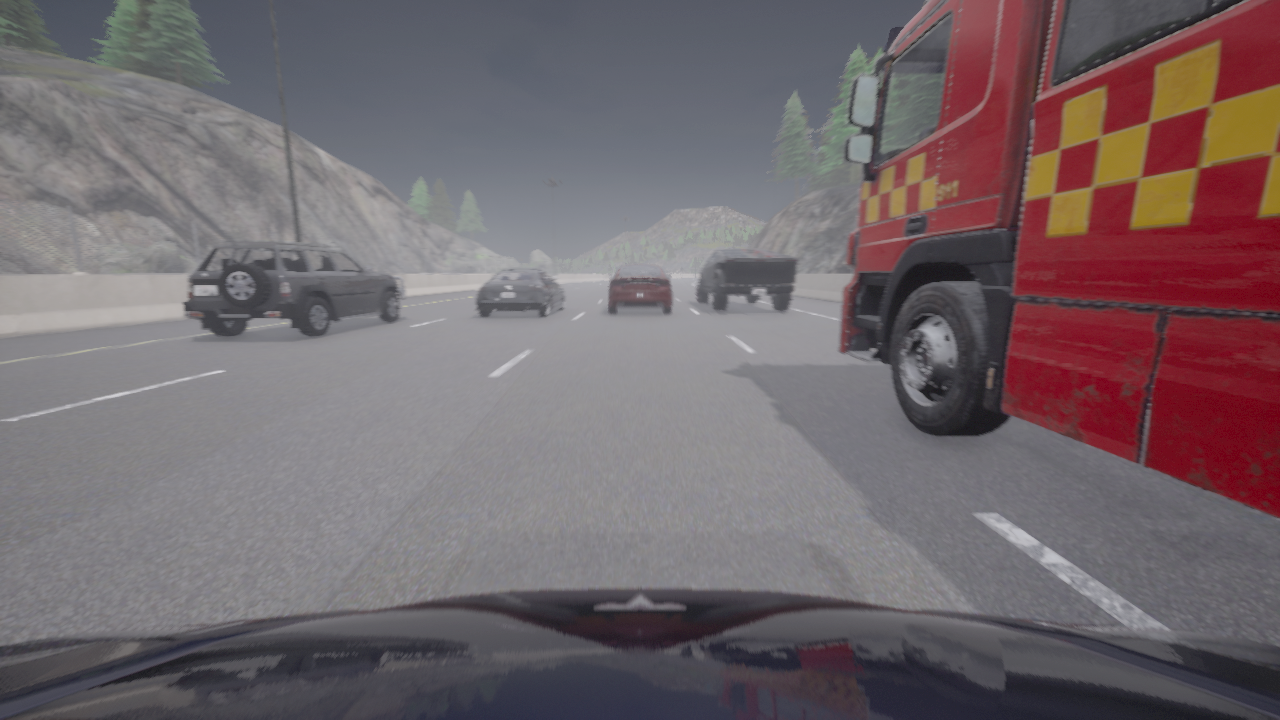cyclist: (839, 0, 1279, 519), (0, 588, 1279, 719), (182, 240, 404, 336), (696, 248, 796, 311), (475, 268, 565, 316), (608, 264, 671, 312), (550, 275, 552, 277)
